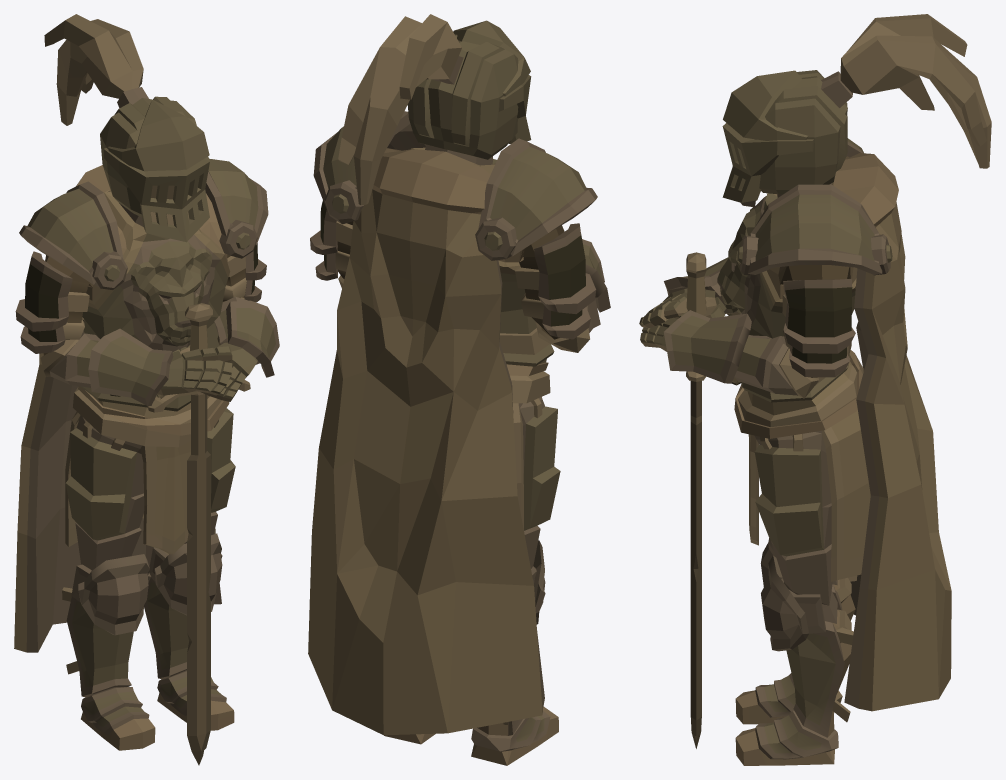
File: dungeon_SM_Prop_KnightStand_Royal_01.gltf
3 renders of one model, left to right at view 1: azimuth 30°, elevation 25°; view 2: azimuth 150°, elevation 25°; view 3: azimuth 270°, elevation 25°, orthographic. The views are drawn at different scales.
Parts seen in each view (by area): view 1: SM_Prop_KnightStand_Royal_01; view 2: SM_Prop_KnightStand_Royal_01; view 3: SM_Prop_KnightStand_Royal_01.
Part boxes in pixels (left/top/right/bottom): SM_Prop_KnightStand_Royal_01: left=14, top=14, right=279, bottom=765; SM_Prop_KnightStand_Royal_01: left=308, top=14, right=610, bottom=765; SM_Prop_KnightStand_Royal_01: left=639, top=14, right=991, bottom=765.
Bounding box in the file's own units: 0.7141 × 1.96 × 0.8638.
Materials: 1 (1 with a texture image).
